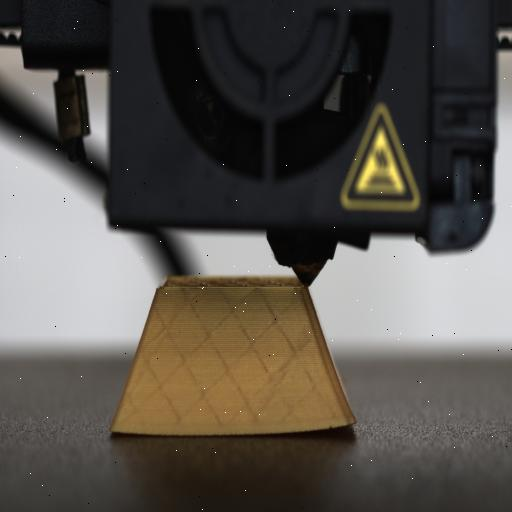warp: (308, 407, 362, 437)
